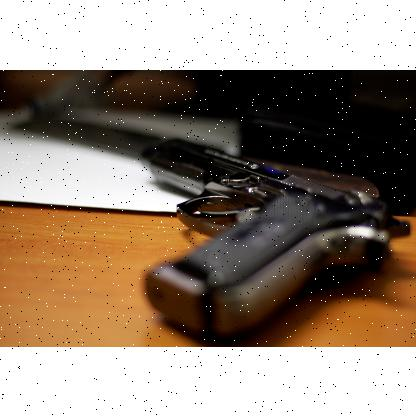gun: (138, 134, 410, 338)
